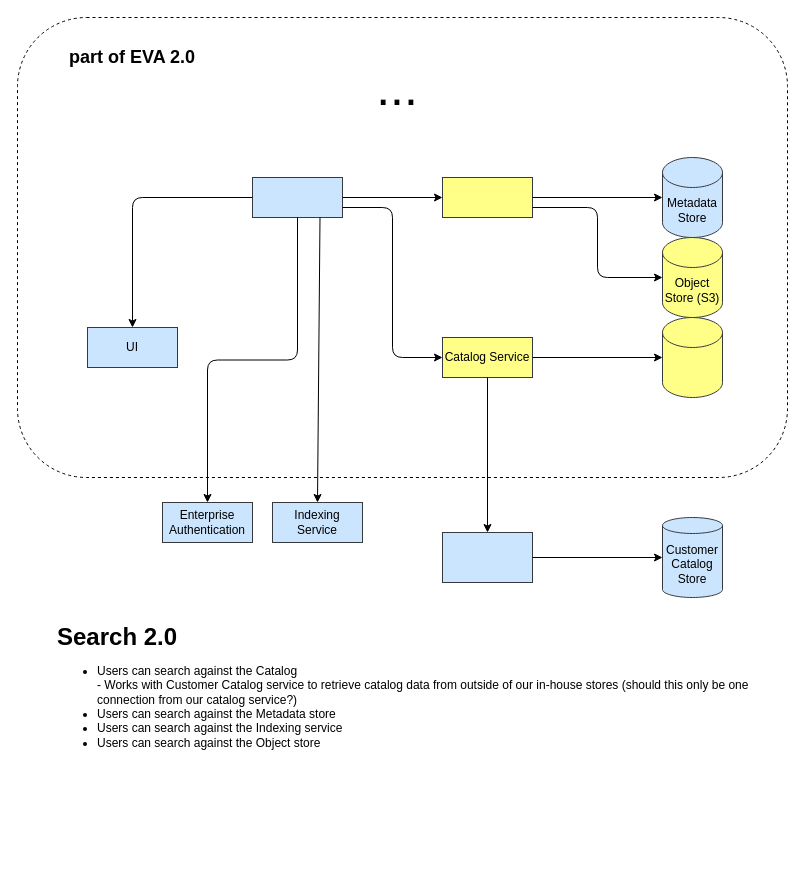
Image size: 805x885. Some labels were removed from this diagram. The centre of each missing label's shape, as x and y in pixels:
"Catalog Store" goes at (x=692, y=357).
"Customer Catalog Service" goes at (x=487, y=557).
"EVA API Gateway" goes at (x=297, y=197).
"File Service" goes at (x=487, y=197).
